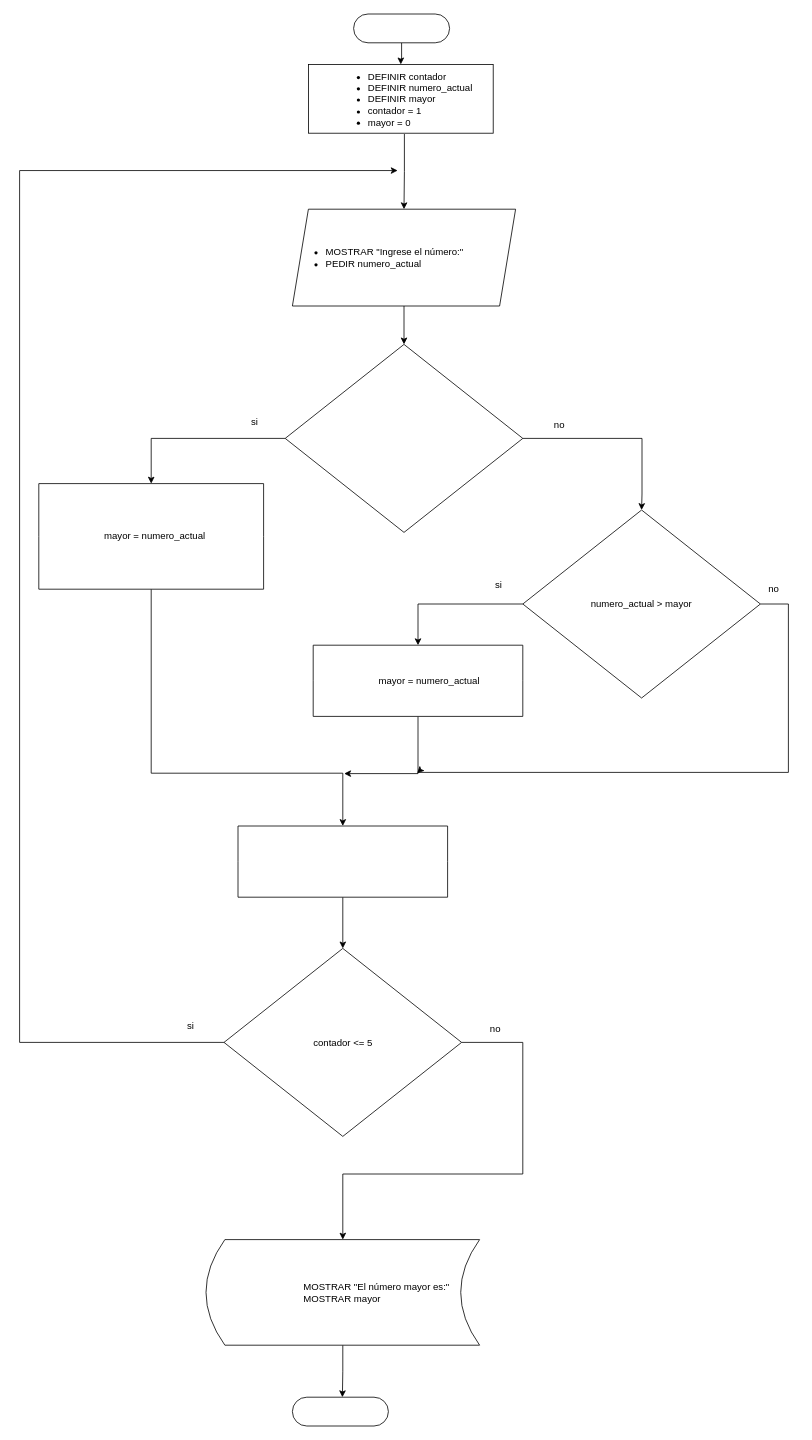
Some shapes in this 812 by 1440 pixel diagram are drawn without their labels. The shapes that lost their labels are listed below. From the top down, each one's box as (x1, y1, x2, y2) in pixels, then its label:
(353, 13, 450, 43): Inicio
(284, 344, 523, 532): contador == 1
(237, 825, 448, 897): contador = contador + 1
(292, 1396, 388, 1426): Fin
